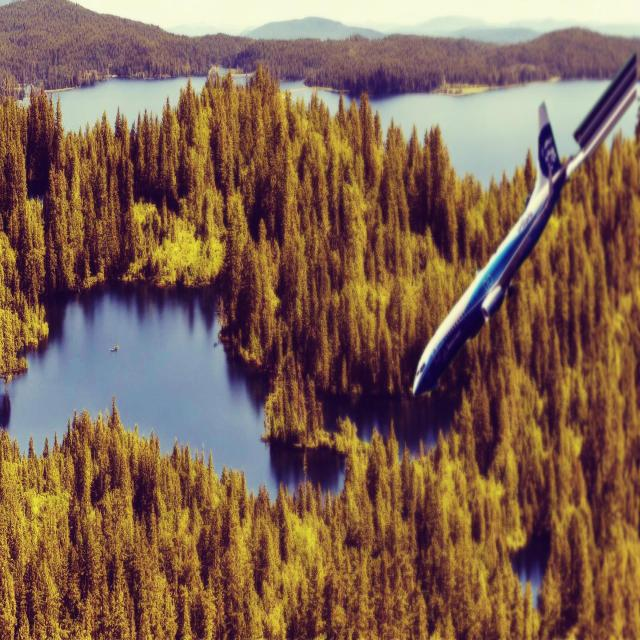airplane: (411, 50, 638, 398)
